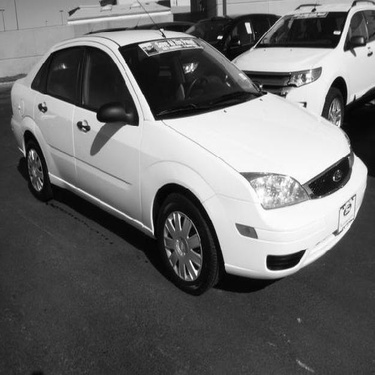car: (6, 26, 368, 299), (227, 4, 368, 131), (183, 12, 285, 70)
